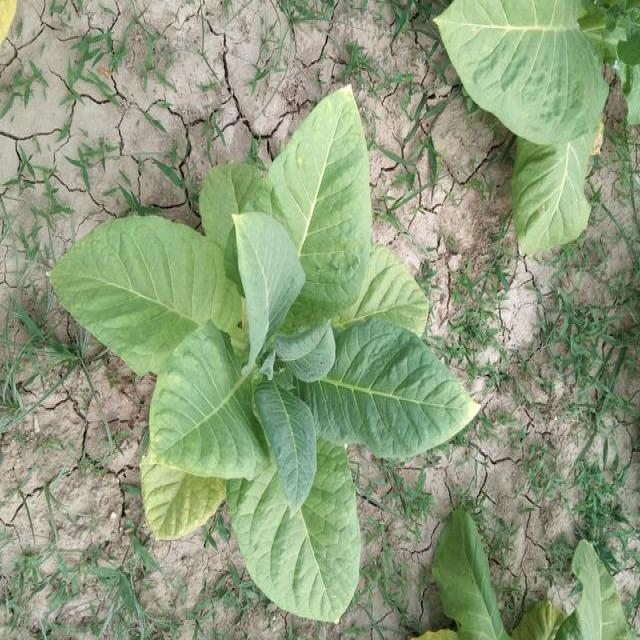crop: (39, 92, 470, 626), (434, 8, 640, 252), (418, 527, 640, 640)
